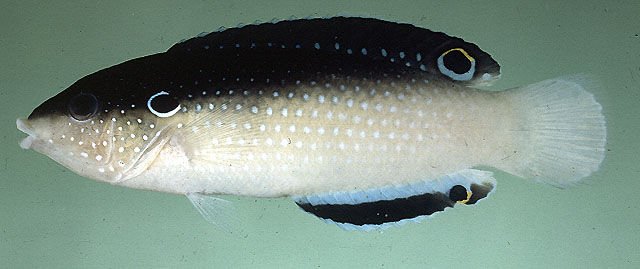fish: (17, 17, 608, 231)
